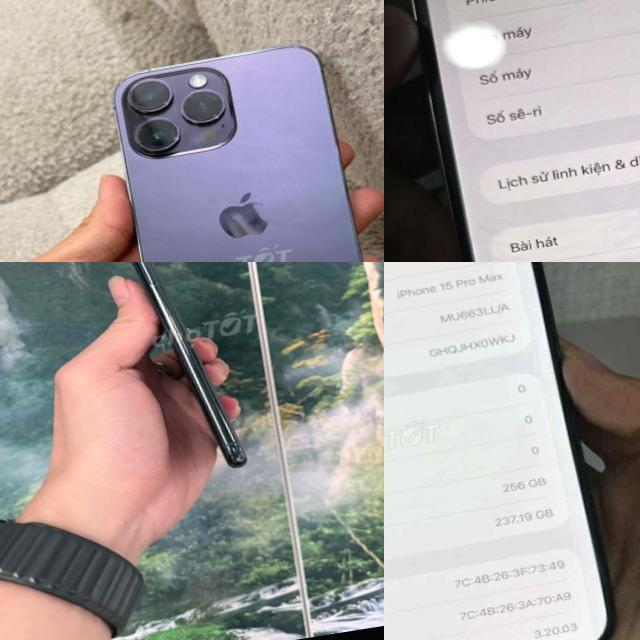gen_11: (97, 262, 257, 485)
gen_14: (98, 34, 384, 262)
gen_15: (384, 262, 630, 640)
gen_16: (414, 0, 640, 262)
